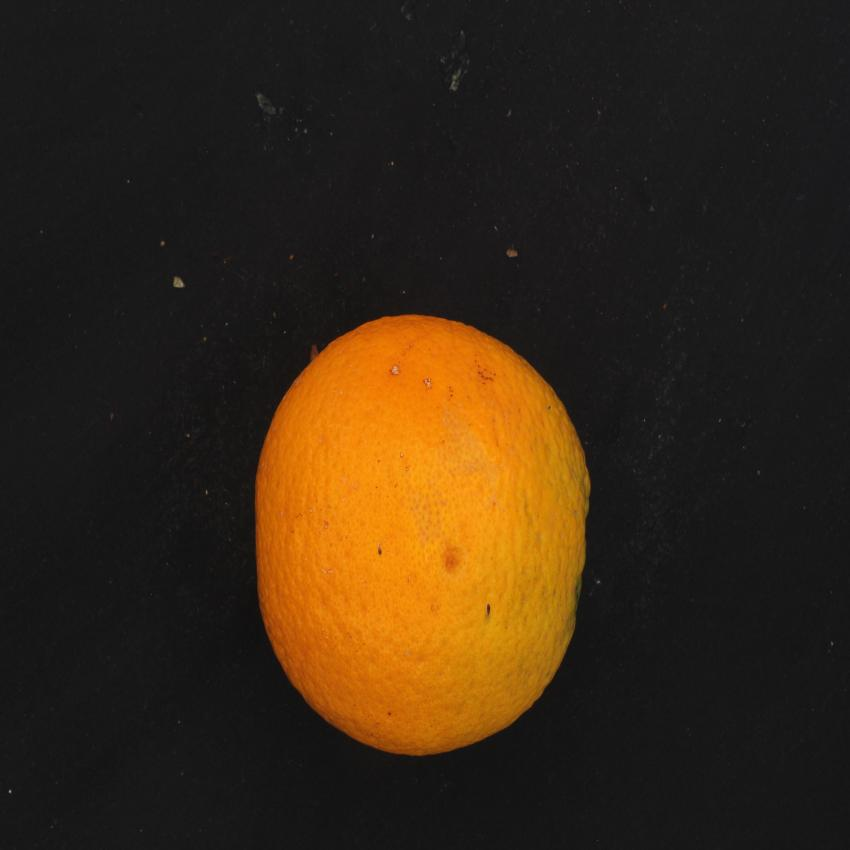Buen estado: (246, 305, 598, 769)
